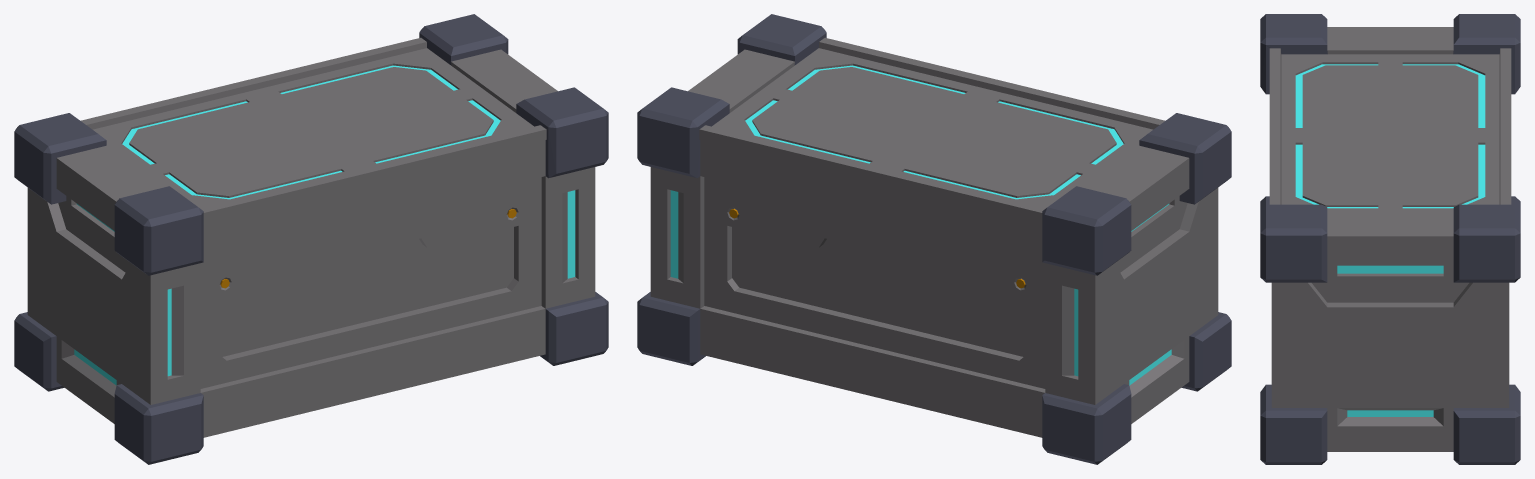
File: SM_Props_Box_03.fbx
The picture shows the model from 3 angles, left to right: view 1: azimuth 30°, elevation 25°; view 2: azimuth 150°, elevation 25°; view 3: azimuth 270°, elevation 25°; orthographic projection. The views are drawn at different scales.
Parts seen in each view (by area): view 1: SM_Props_Box_03; view 2: SM_Props_Box_03; view 3: SM_Props_Box_03.
Boxes of the visible parts, left/top/right/bottom form: SM_Props_Box_03: left=14, top=14, right=608, bottom=464; SM_Props_Box_03: left=637, top=14, right=1231, bottom=464; SM_Props_Box_03: left=1260, top=14, right=1520, bottom=464.
Size of the model in its own units: 1.25 by 0.6299 by 0.6277.
